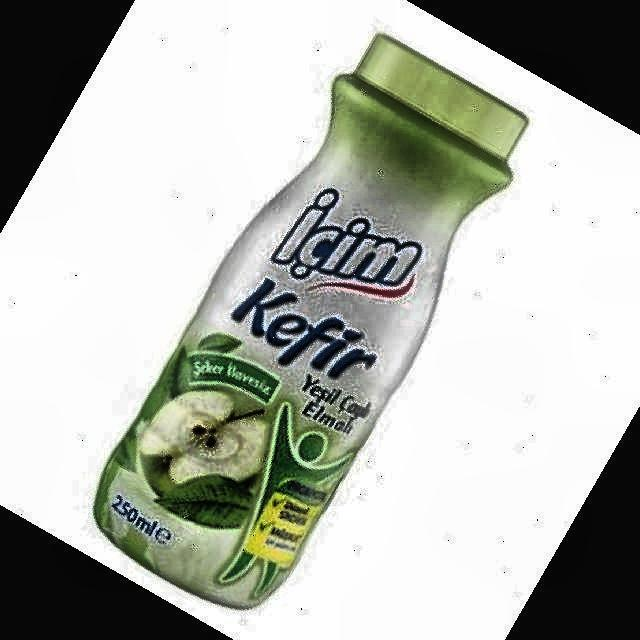plastic: (95, 35, 526, 608)
